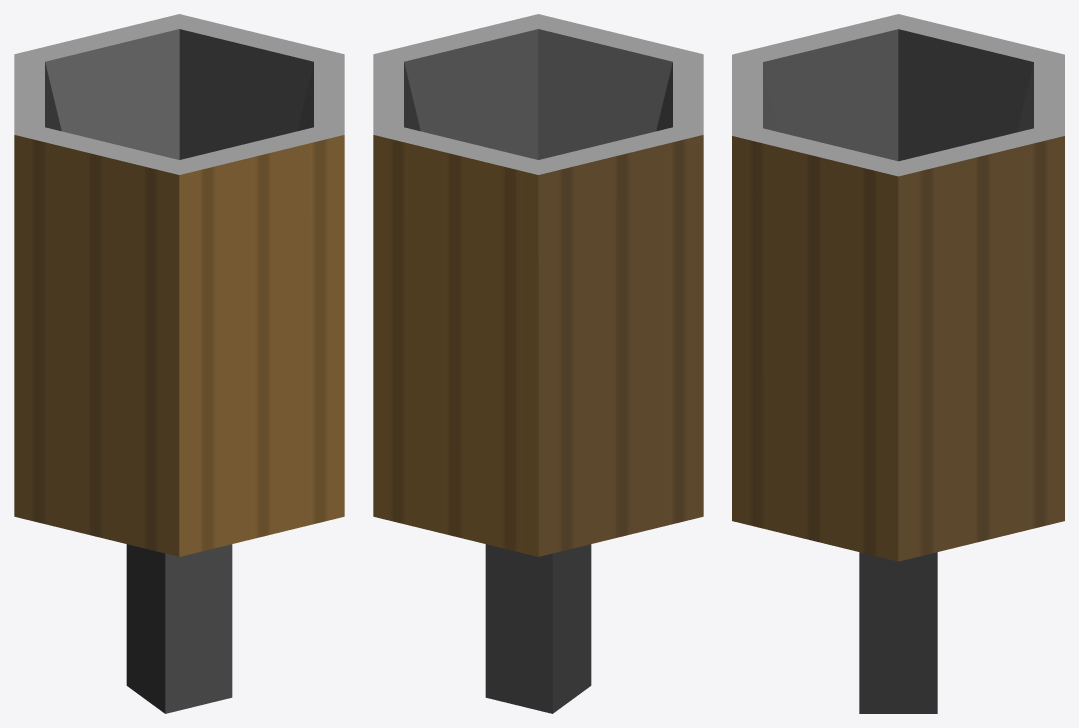
Rendered from SM_ParkBin_Wood_01.fbx.
The picture shows the model from 3 angles, left to right: view 1: azimuth 30°, elevation 25°; view 2: azimuth 150°, elevation 25°; view 3: azimuth 270°, elevation 25°; orthographic projection.
Parts seen in each view (by area): view 1: SM_ParkBin_Wood_01; view 2: SM_ParkBin_Wood_01; view 3: SM_ParkBin_Wood_01.
Part boxes in pixels (x1,y1,x2,y2): SM_ParkBin_Wood_01: (14, 14, 344, 713); SM_ParkBin_Wood_01: (373, 14, 703, 713); SM_ParkBin_Wood_01: (732, 14, 1064, 713).
Size of the model in its own units: 0.9808 by 1.7 by 0.8494.
